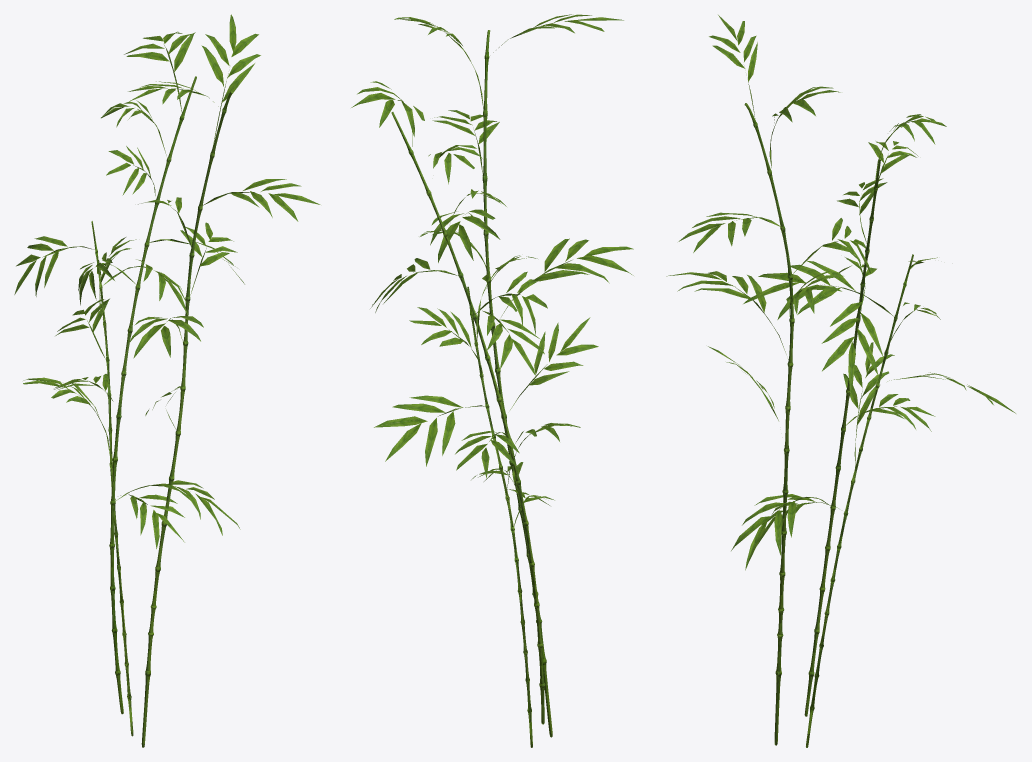
Rendered from Bamboo.glb.
The picture shows the model from 3 angles, left to right: view 1: azimuth 30°, elevation 25°; view 2: azimuth 150°, elevation 25°; view 3: azimuth 270°, elevation 25°; orthographic projection. The views are drawn at different scales.
Visible parts, largest first — view 1: Bamboo; view 2: Bamboo; view 3: Bamboo.
Boxes of the visible parts, x1,y1,x2,y2 form: Bamboo: (14,14,320,747); Bamboo: (351,14,633,747); Bamboo: (666,15,1015,747).
Bounding box in the file's own units: 0.0139 × 0.0426 × 0.0191.
Materials: 1 (1 with a texture image).
